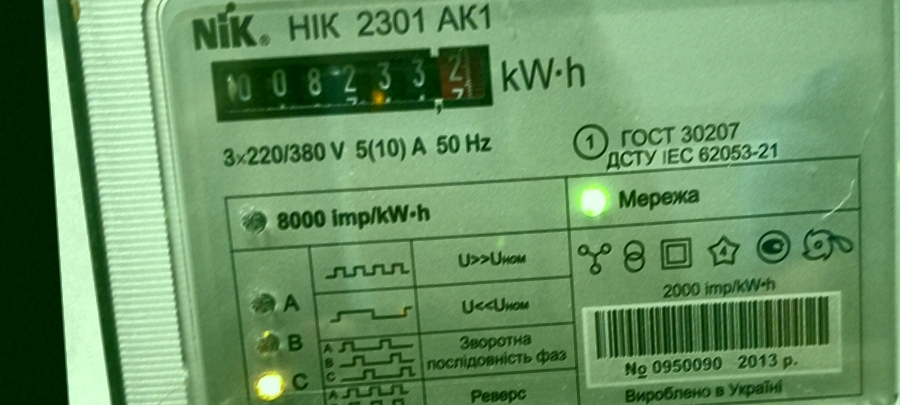0: (235, 72, 257, 105), (271, 68, 291, 100)
2: (340, 63, 362, 97), (448, 53, 467, 85)
3: (376, 61, 396, 93), (412, 57, 430, 90)
8: (306, 66, 326, 99)
screen: (202, 34, 507, 134)
